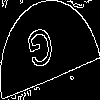G: (25, 25, 57, 79)
